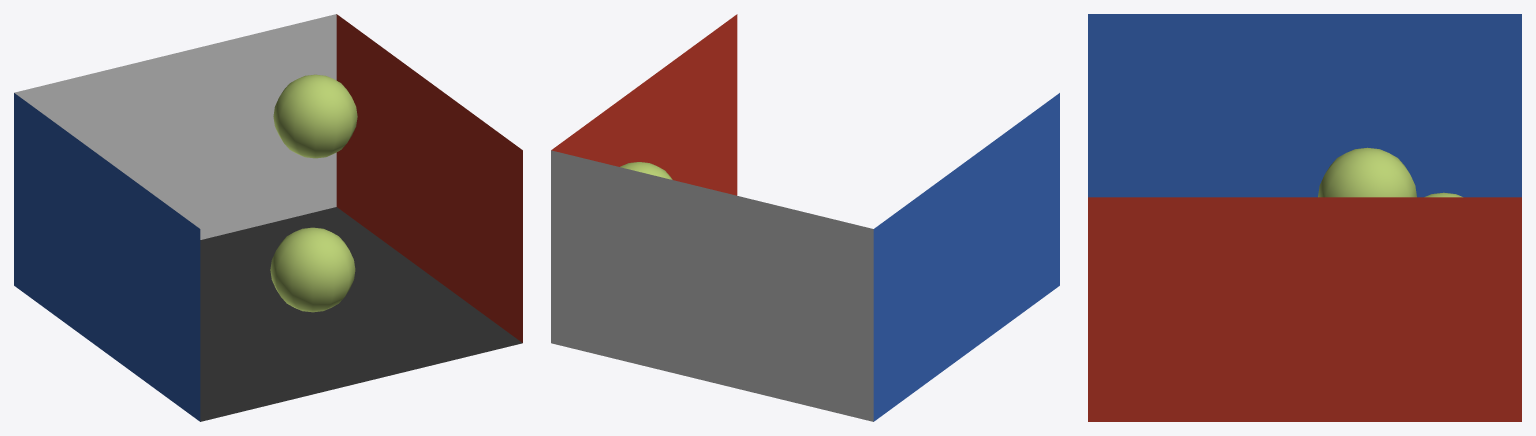
The picture shows the model from 3 angles, left to right: view 1: azimuth 30°, elevation 25°; view 2: azimuth 150°, elevation 25°; view 3: azimuth 270°, elevation 25°; orthographic projection. The views are drawn at different scales.
Visible parts, largest first — view 1: Walls, Sphere2, Sphere1; view 2: Walls; view 3: Walls, Sphere0.
Boxes of the visible parts, x1,y1,x2,y2 form: Walls: [14, 14, 522, 421]; Sphere2: [270, 227, 355, 312]; Sphere1: [273, 74, 357, 158]; Walls: [551, 14, 1059, 421]; Walls: [1088, 14, 1521, 421]; Sphere0: [1318, 147, 1416, 197].
Size of the model in its own units: 3.5 by 2 by 3.5.
